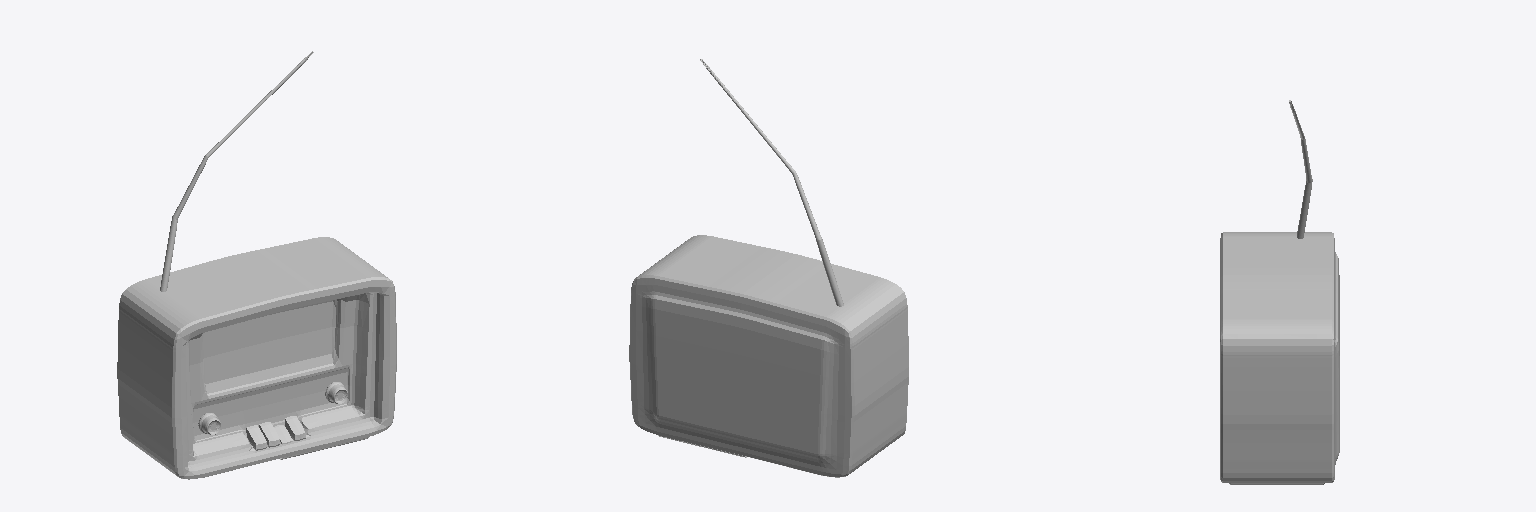
File: radio.obj
3 renders of one model, left to right at view 1: azimuth 30°, elevation 25°; view 2: azimuth 150°, elevation 25°; view 3: azimuth 270°, elevation 25°, orthographic.
Bounding box in the file's own units: 9.99 × 15.77 × 4.59.